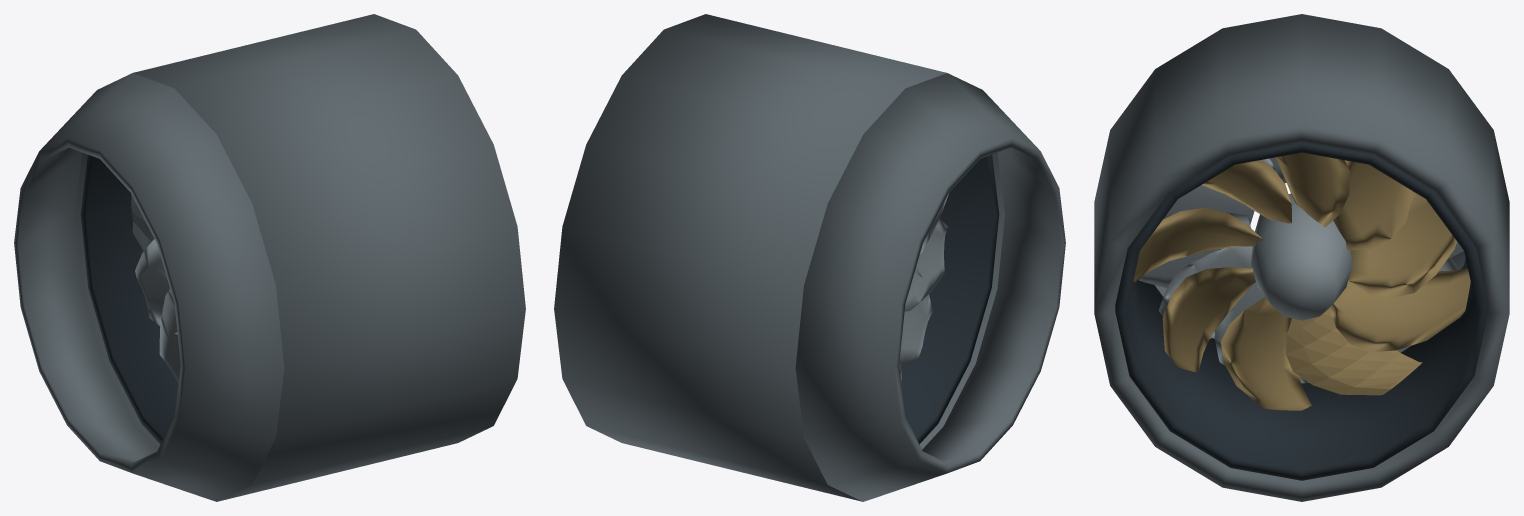
Rendered from PJ_T10_NEXTGEN_LOD2.fbx.
3 renders of one model, left to right at view 1: azimuth 30°, elevation 25°; view 2: azimuth 150°, elevation 25°; view 3: azimuth 270°, elevation 25°, orthographic. The views are drawn at different scales.
Parts seen in each view (by area): view 1: PJ_T10_NEXTGEN_LOD2_Housing.001, PJ_T10_NEXTGEN_LOD2_Nozzle.001, PJ_T10_NEXTGEN_LOD2_Lining.001, PJ_T10_NEXTGEN_LOD2_Stator_12.001, PJ_T10_NEXTGEN_LOD2_Stator_11.001, PJ_T10_NEXTGEN_LOD2_Stator_00.001; view 2: PJ_T10_NEXTGEN_LOD2_Housing.001, PJ_T10_NEXTGEN_LOD2_Nozzle.001, PJ_T10_NEXTGEN_LOD2_Lining.001, PJ_T10_NEXTGEN_LOD2_Stator_07.001, PJ_T10_NEXTGEN_LOD2_Stator_08.001; view 3: PJ_T10_NEXTGEN_LOD2_Housing.001, PJ_T10_NEXTGEN_LOD2_Lining.001, PJ_T10_NEXTGEN_LOD2_Hub.001, PJ_T10_NEXTGEN_LOD2_Rotor_08.001, PJ_T10_NEXTGEN_LOD2_Rotor_07.001, PJ_T10_NEXTGEN_LOD2_Rotor_06.001, PJ_T10_NEXTGEN_LOD2_Rotor_00.001, PJ_T10_NEXTGEN_LOD2_Rotor_05.001, PJ_T10_NEXTGEN_LOD2_Rotor_01.001, PJ_T10_NEXTGEN_LOD2_Rotor_04.001, PJ_T10_NEXTGEN_LOD2_Rotor_02.001, PJ_T10_NEXTGEN_LOD2_Rotor_03.001 (+4 smaller).
Boxes of the visible parts, bbox=[...] form: PJ_T10_NEXTGEN_LOD2_Housing.001: bbox=[75, 14, 525, 501]; PJ_T10_NEXTGEN_LOD2_Nozzle.001: bbox=[14, 73, 284, 501]; PJ_T10_NEXTGEN_LOD2_Lining.001: bbox=[80, 154, 178, 444]; PJ_T10_NEXTGEN_LOD2_Stator_12.001: bbox=[135, 239, 177, 334]; PJ_T10_NEXTGEN_LOD2_Stator_11.001: bbox=[159, 289, 180, 383]; PJ_T10_NEXTGEN_LOD2_Stator_00.001: bbox=[131, 194, 167, 280]; PJ_T10_NEXTGEN_LOD2_Housing.001: bbox=[554, 14, 1004, 501]; PJ_T10_NEXTGEN_LOD2_Nozzle.001: bbox=[795, 73, 1065, 501]; PJ_T10_NEXTGEN_LOD2_Lining.001: bbox=[901, 154, 999, 444]; PJ_T10_NEXTGEN_LOD2_Stator_07.001: bbox=[904, 219, 947, 311]; PJ_T10_NEXTGEN_LOD2_Stator_08.001: bbox=[899, 267, 932, 363]; PJ_T10_NEXTGEN_LOD2_Housing.001: bbox=[1094, 14, 1509, 501]; PJ_T10_NEXTGEN_LOD2_Lining.001: bbox=[1115, 143, 1488, 480]; PJ_T10_NEXTGEN_LOD2_Hub.001: bbox=[1251, 193, 1352, 320]; PJ_T10_NEXTGEN_LOD2_Rotor_08.001: bbox=[1329, 268, 1470, 352]; PJ_T10_NEXTGEN_LOD2_Rotor_07.001: bbox=[1285, 308, 1422, 395]; PJ_T10_NEXTGEN_LOD2_Rotor_06.001: bbox=[1221, 297, 1311, 410]; PJ_T10_NEXTGEN_LOD2_Rotor_00.001: bbox=[1349, 192, 1456, 297]; PJ_T10_NEXTGEN_LOD2_Rotor_05.001: bbox=[1162, 267, 1255, 372]; PJ_T10_NEXTGEN_LOD2_Rotor_01.001: bbox=[1333, 160, 1412, 250]; PJ_T10_NEXTGEN_LOD2_Rotor_04.001: bbox=[1133, 207, 1262, 282]; PJ_T10_NEXTGEN_LOD2_Rotor_02.001: bbox=[1275, 152, 1349, 227]; PJ_T10_NEXTGEN_LOD2_Rotor_03.001: bbox=[1202, 160, 1291, 223].
Bounding box in the file's own units: 508 × 610 × 610.
